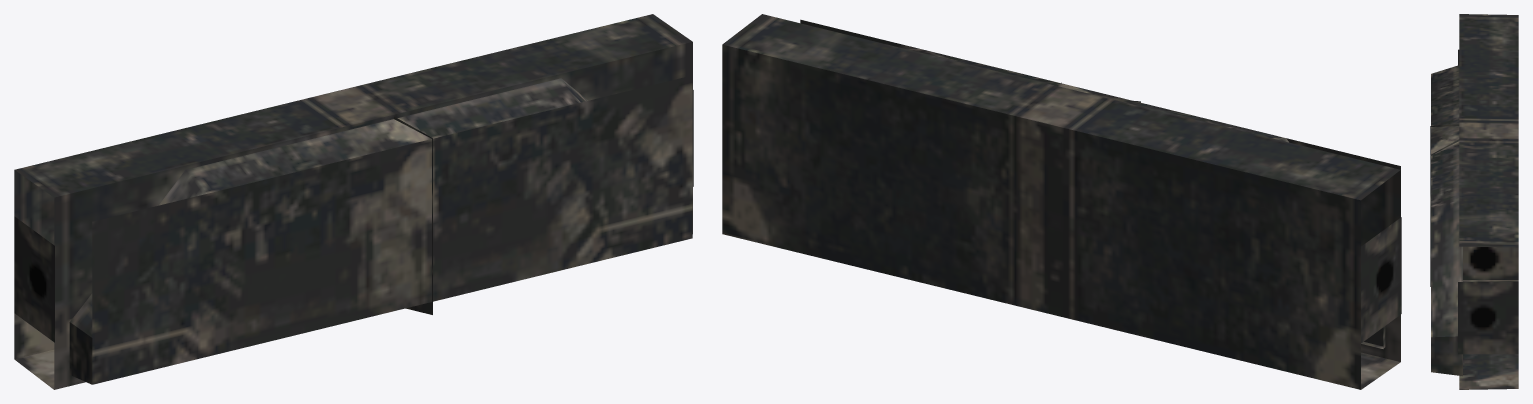
Rendered from segment_01_pair_1_L.glb.
3 views of the same model, side by side, from view 1: azimuth 30°, elevation 25°; view 2: azimuth 150°, elevation 25°; view 3: azimuth 270°, elevation 25° (orthographic). The views are drawn at different scales.
Parts seen in each view (by area): view 1: set_0_group_0; view 2: set_0_group_0; view 3: set_0_group_0.
Boxes of the visible parts, x1,y1,x2,y2 form: set_0_group_0: (14,14,693,389); set_0_group_0: (722,14,1401,389); set_0_group_0: (1430,14,1518,389).
Bounding box in the file's own units: 0.6345 × 0.1826 × 0.1022.
1 material, 1 textured.
